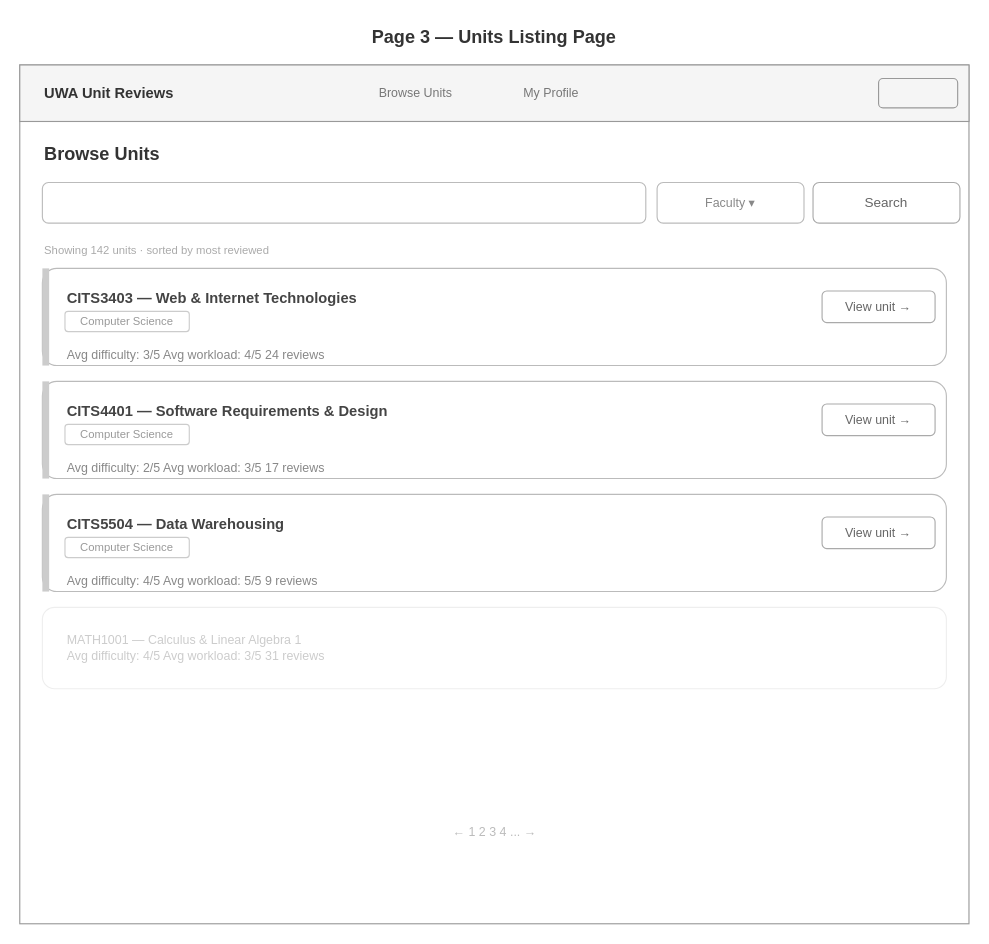
Some shapes in this 989 by 944 pixel diagram are drawn without their labels. The centre of each missing label's shape, as x and y in pixels:
Log out: the point at 917,92
Search by unit code or name...: the point at 343,202
